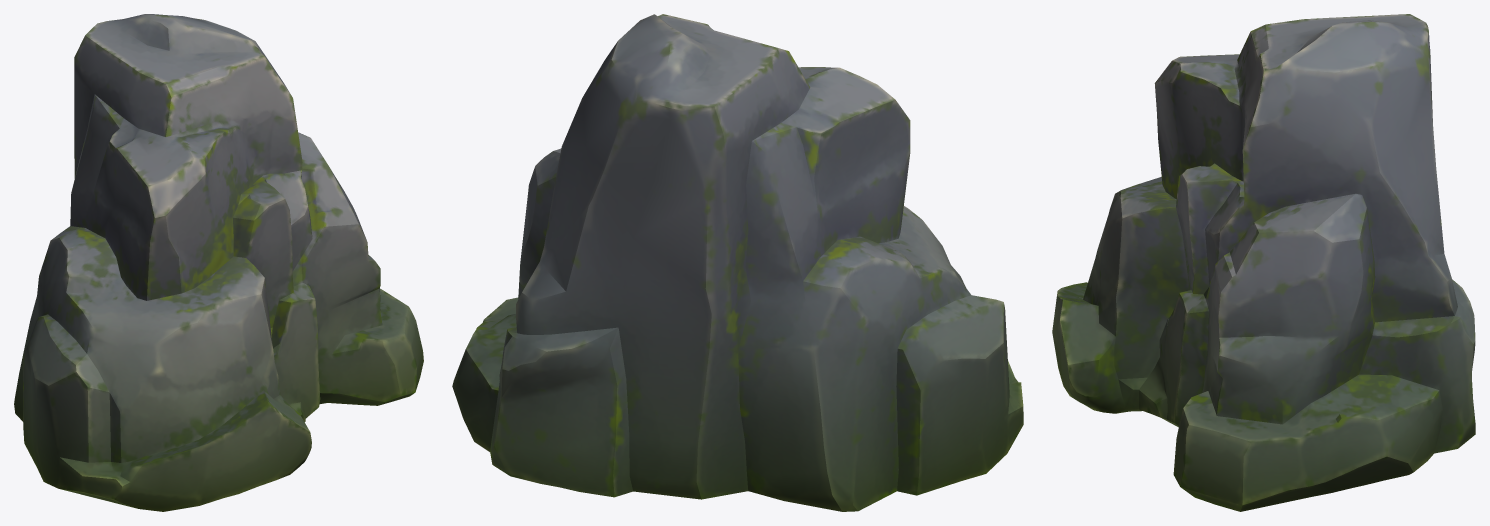
File: Rock_Big_1.gltf
The picture shows the model from 3 angles, left to right: view 1: azimuth 30°, elevation 25°; view 2: azimuth 150°, elevation 25°; view 3: azimuth 270°, elevation 25°; orthographic projection. The views are drawn at different scales.
Parts seen in each view (by area): view 1: Rock_Big_1; view 2: Rock_Big_1; view 3: Rock_Big_1.
Part boxes in pixels (bbox=[...]): Rock_Big_1: bbox=[14, 14, 423, 511]; Rock_Big_1: bbox=[452, 14, 1023, 511]; Rock_Big_1: bbox=[1052, 14, 1475, 511].
Size of the model in its own units: 5.2 by 4.58 by 4.45.
1 material, 1 textured.
